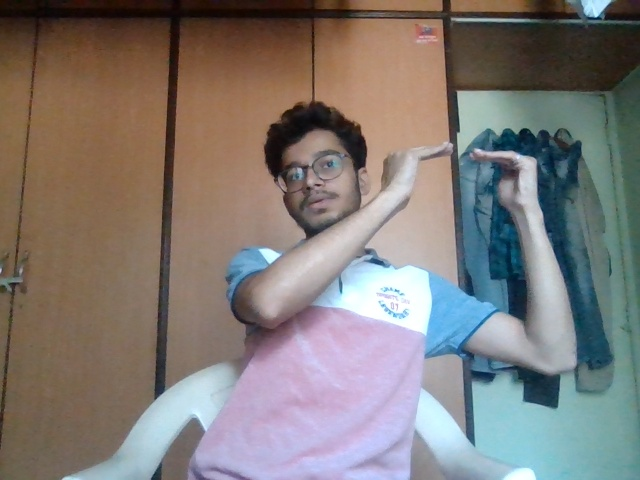afternoon: (354, 132, 560, 258)
